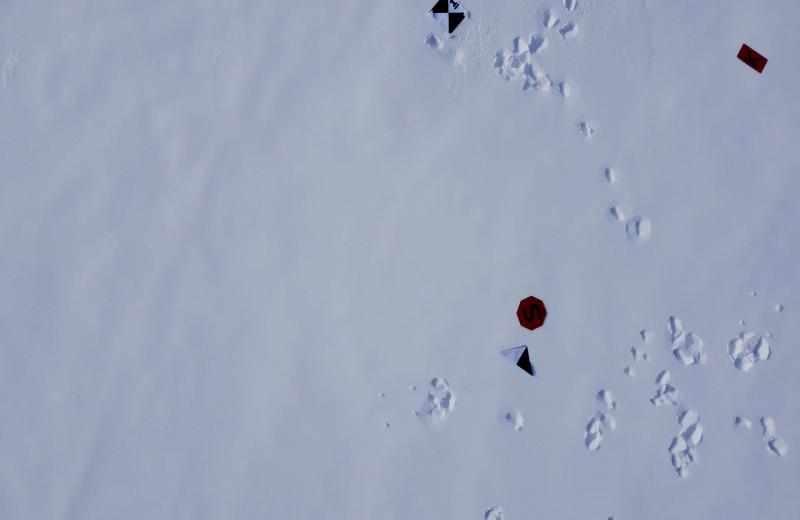Octagon: (516, 292, 550, 335)
Rectangle: (735, 40, 768, 78)
